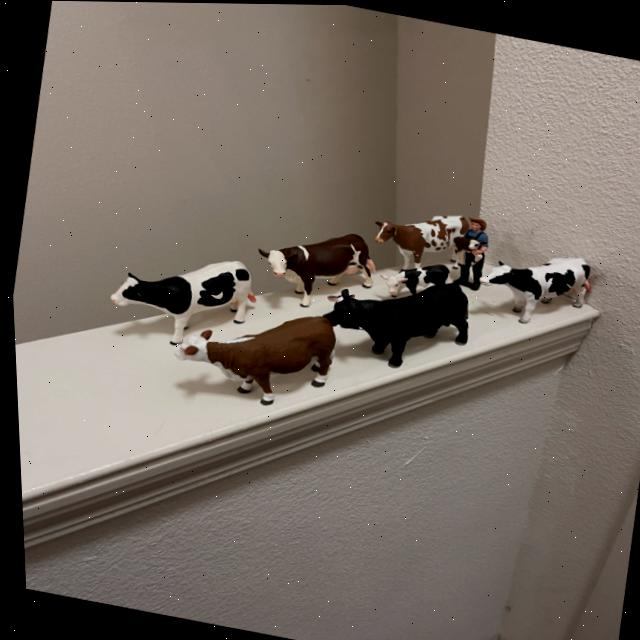cow: (169, 313, 338, 413), (316, 270, 473, 376), (105, 258, 254, 351), (255, 229, 377, 312), (477, 252, 593, 326), (371, 213, 469, 268), (377, 261, 448, 297), (445, 233, 478, 266)
person: (457, 213, 493, 252), (468, 258, 480, 285)
